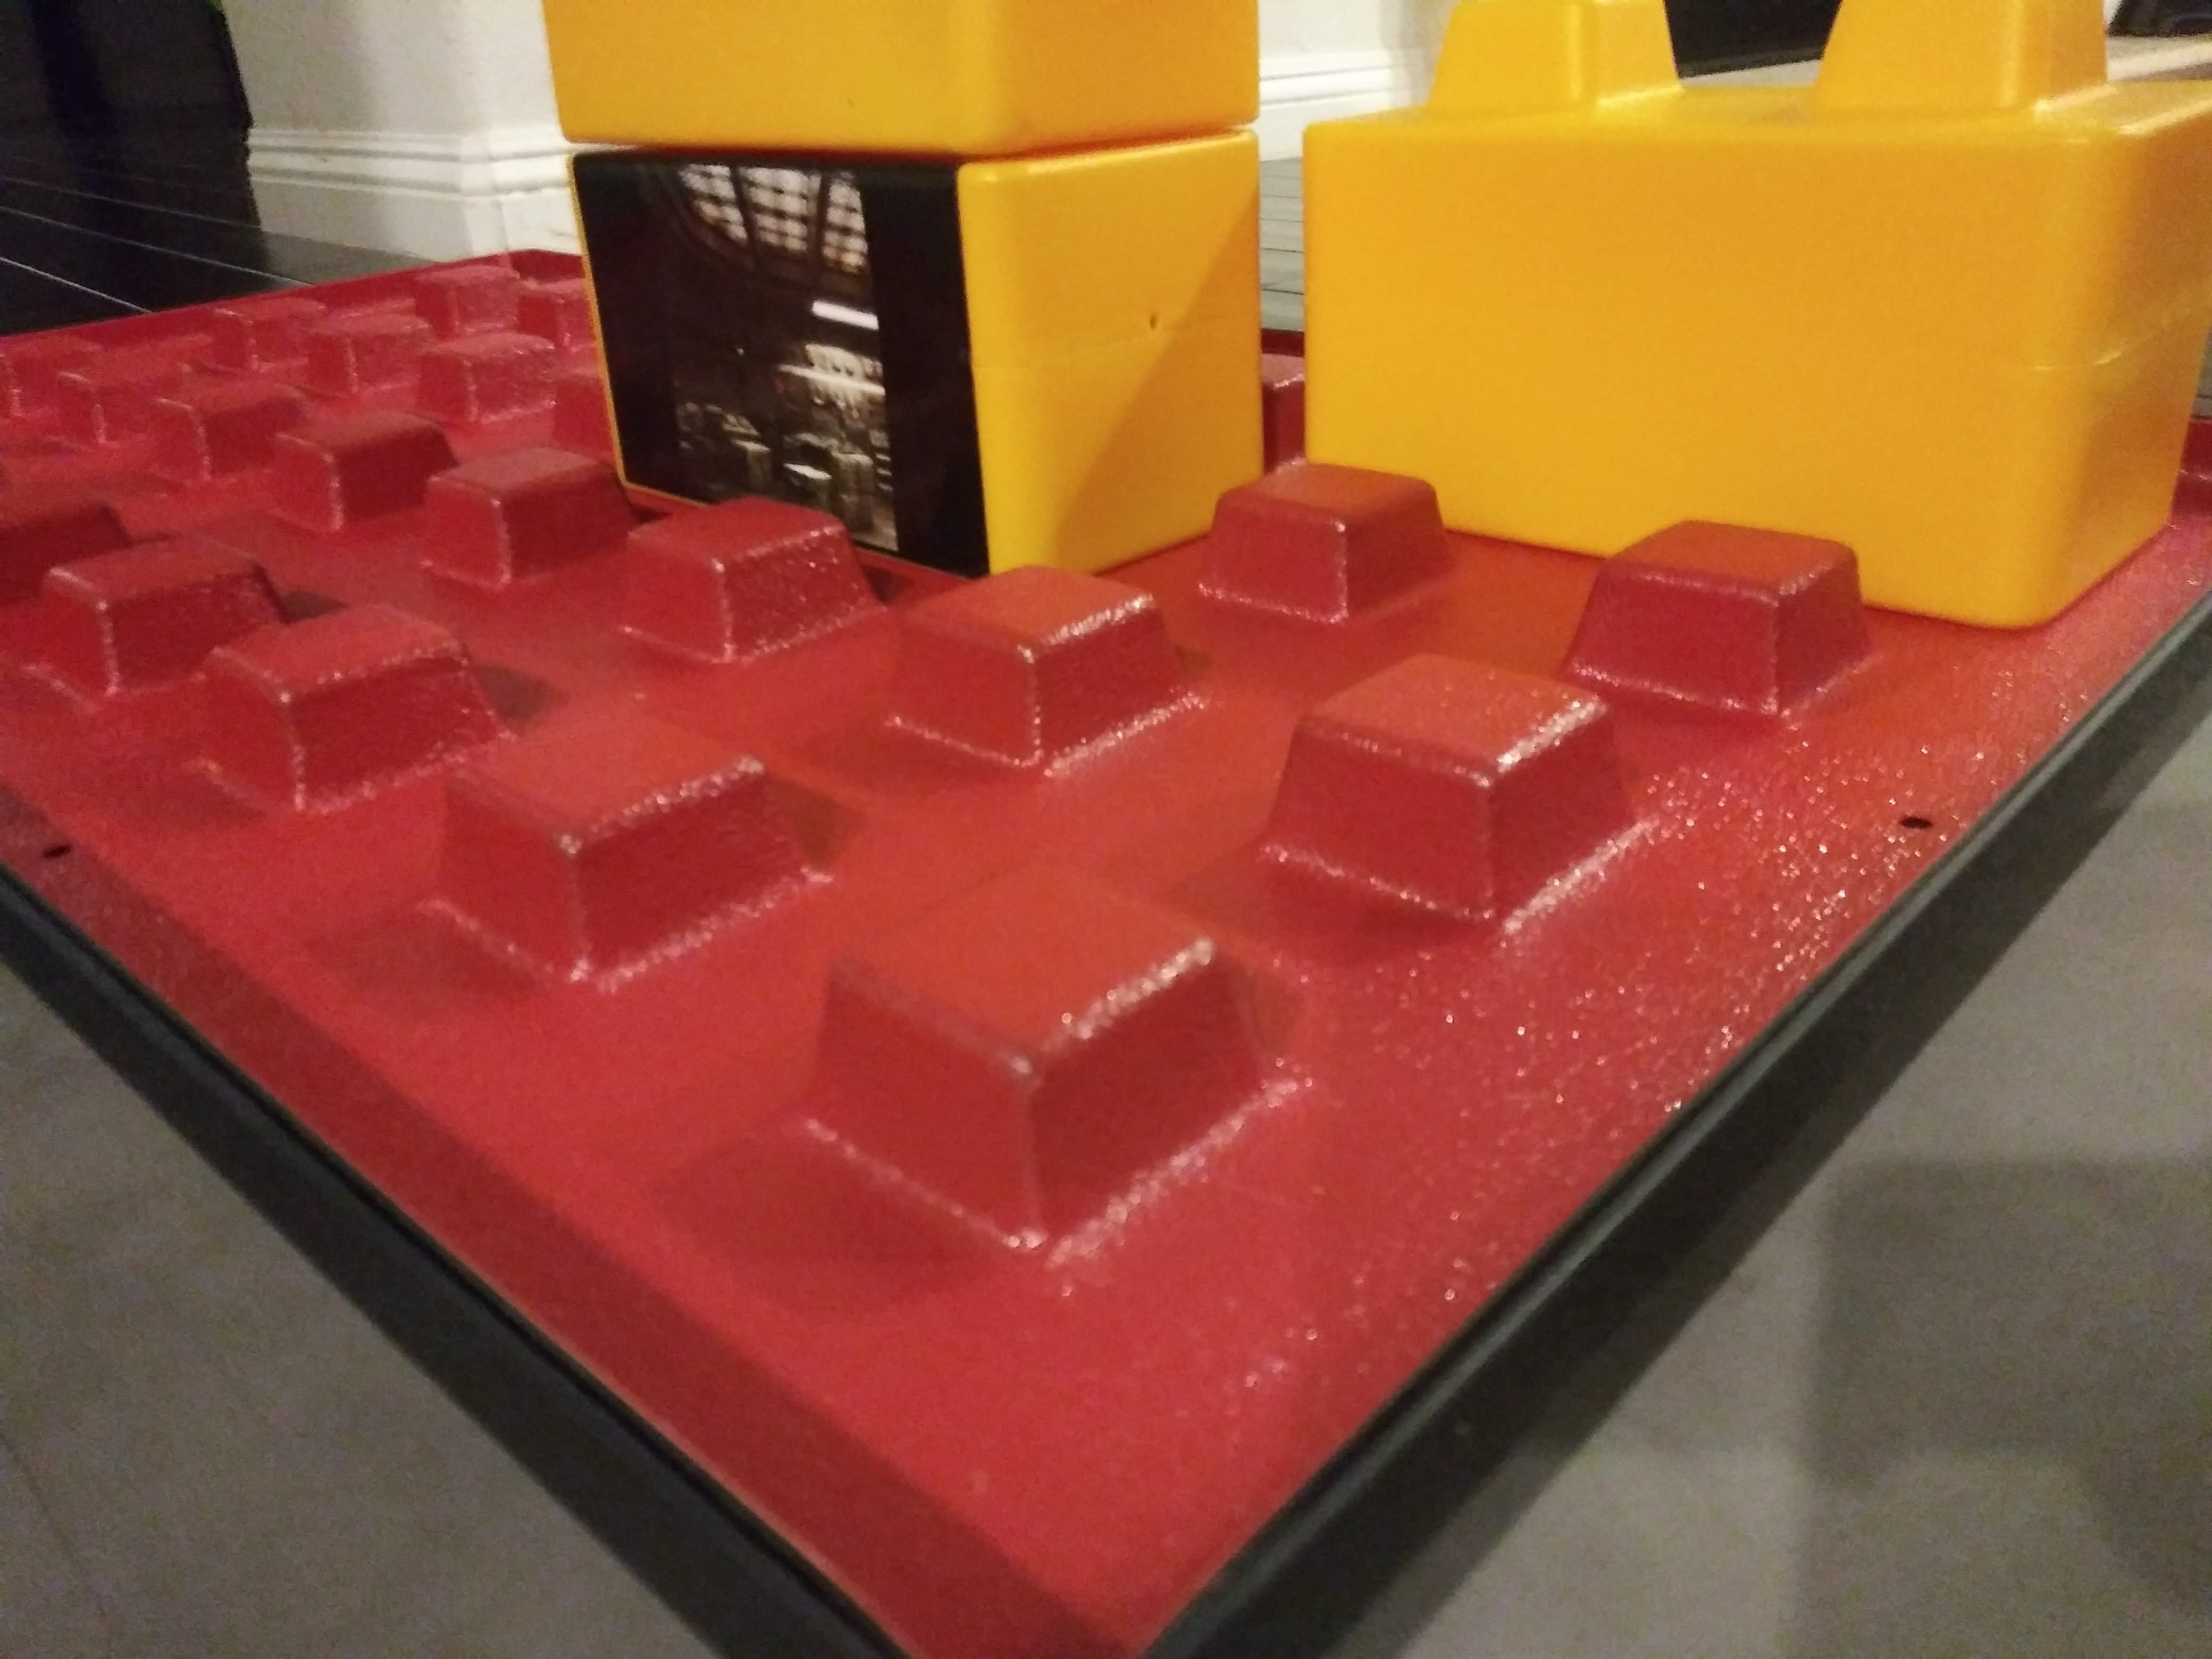red foundation: (54, 234, 2045, 1462)
